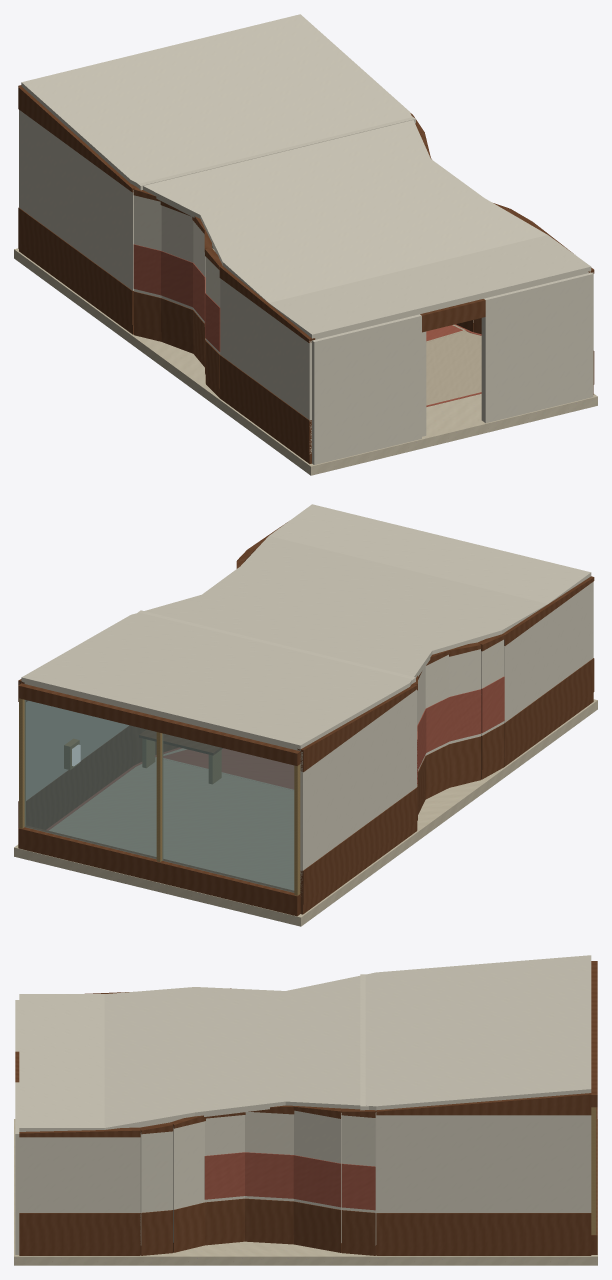
File: shell.glb
The picture shows the model from 3 angles, top to bottom: view 1: azimuth 30°, elevation 25°; view 2: azimuth 150°, elevation 25°; view 3: azimuth 270°, elevation 25°; orthographic projection.
Visible parts, largest first — view 1: SUI_Runtime_ivory_enamel, SUI_Runtime_warm_walnut, SUI_Runtime_warm_stone, SUI_Runtime_clay_weave, SUI_Runtime_oatmeal_weave; view 2: SUI_Runtime_ivory_enamel, SUI_Runtime_warm_walnut, SUI_Runtime_SuiteHospitalityGlass, SUI_Runtime_oatmeal_weave, SUI_Runtime_warm_stone, SUI_Runtime_clay_weave, SUI_Runtime_champagne_metal; view 3: SUI_Runtime_ivory_enamel, SUI_Runtime_warm_walnut, SUI_Runtime_warm_stone, SUI_Runtime_clay_weave, SUI_Runtime_champagne_metal.
Boxes of the visible parts, left/top/right/bottom form: SUI_Runtime_ivory_enamel: left=19, top=14, right=593, bottom=464; SUI_Runtime_warm_walnut: left=18, top=85, right=594, bottom=463; SUI_Runtime_warm_stone: left=14, top=248, right=597, bottom=475; SUI_Runtime_clay_weave: left=133, top=244, right=481, bottom=406; SUI_Runtime_oatmeal_weave: left=212, top=245, right=481, bottom=405; SUI_Runtime_ivory_enamel: left=19, top=504, right=593, bottom=885; SUI_Runtime_warm_walnut: left=18, top=522, right=594, bottom=916; SUI_Runtime_SuiteHospitalityGlass: left=24, top=700, right=294, bottom=892; SUI_Runtime_oatmeal_weave: left=49, top=748, right=293, bottom=890; SUI_Runtime_warm_stone: left=14, top=699, right=597, bottom=926; SUI_Runtime_clay_weave: left=46, top=676, right=504, bottom=830; SUI_Runtime_champagne_metal: left=19, top=698, right=300, bottom=895; SUI_Runtime_ivory_enamel: left=15, top=955, right=591, bottom=1254; SUI_Runtime_warm_walnut: left=15, top=961, right=597, bottom=1255; SUI_Runtime_warm_stone: left=14, top=1119, right=597, bottom=1265; SUI_Runtime_clay_weave: left=204, top=1152, right=375, bottom=1210; SUI_Runtime_champagne_metal: left=591, top=1107, right=596, bottom=1234.
Bounding box in the file's own units: 7.2 × 4.26 × 12.9.
Materials: 9 (7 with a texture image).
